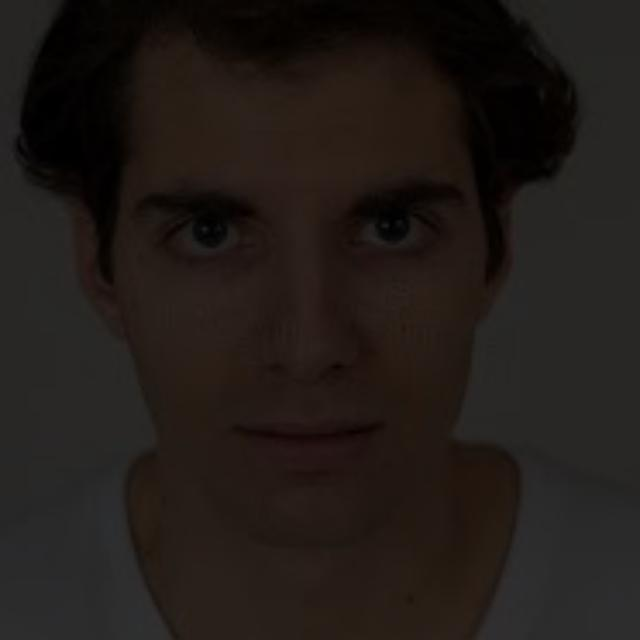Natural: (79, 86, 554, 573)
